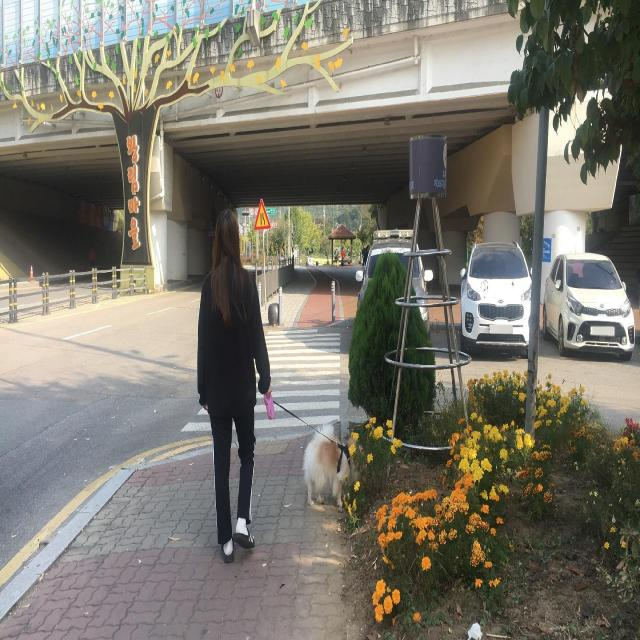횡단보도: (180, 326, 342, 435)
